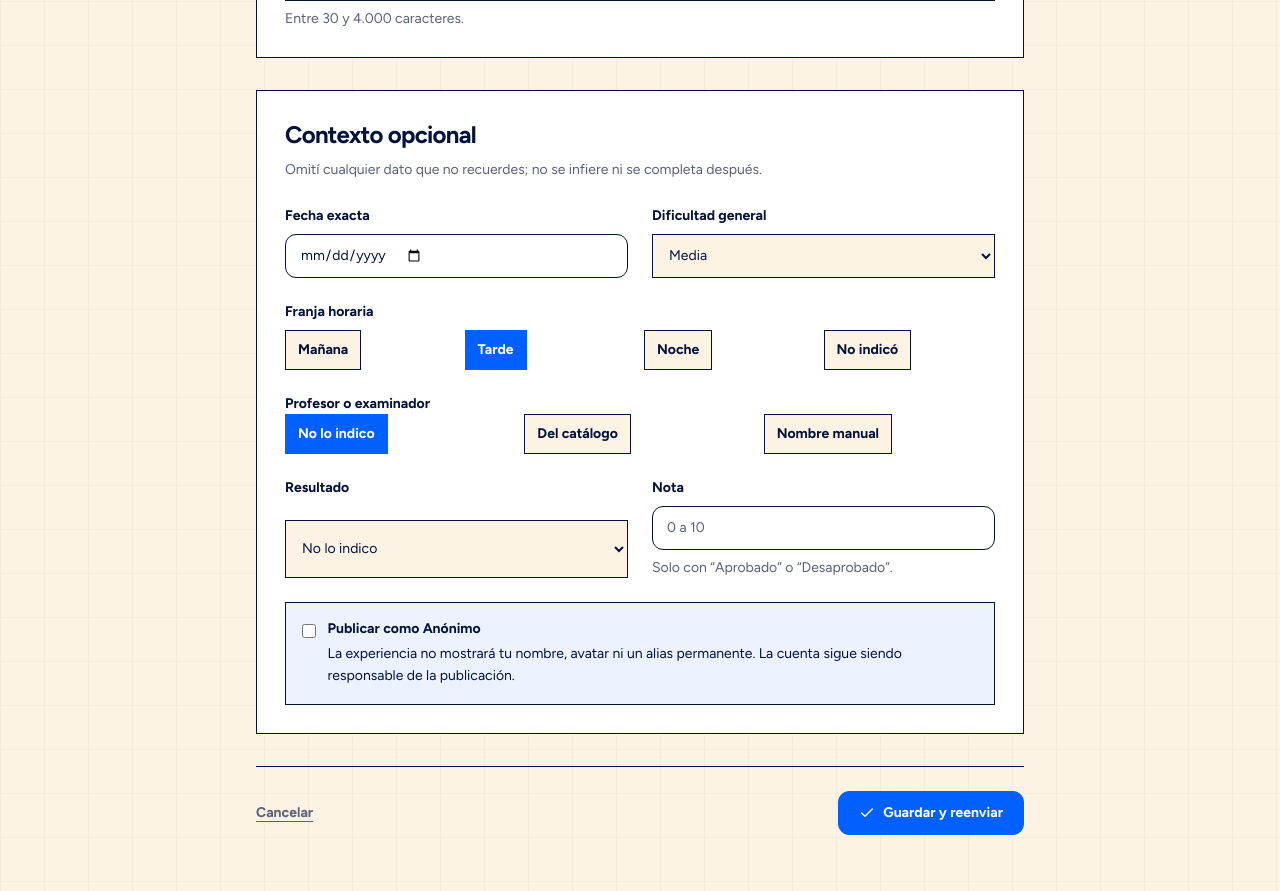
Test case: ExamForm › resubmits a rejected experiencia after the author corrects it
(page scrolled)
Click the button "Guardar y reenviar" at {"x": 931, "y": 813}, box [838,791,1024,835]
(page scrolled)
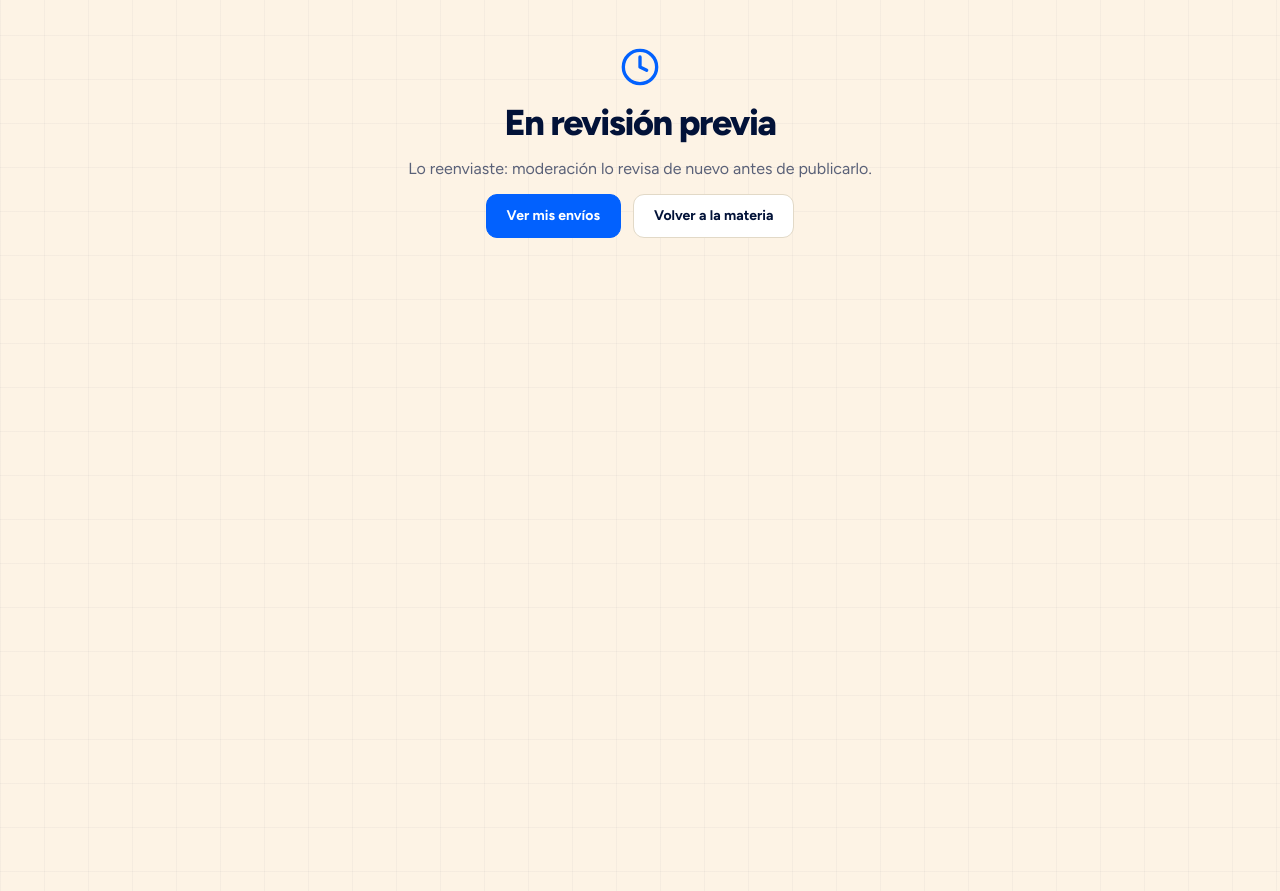
Expected: the heading "En revisión previa" is shown, [504,101,775,144]
